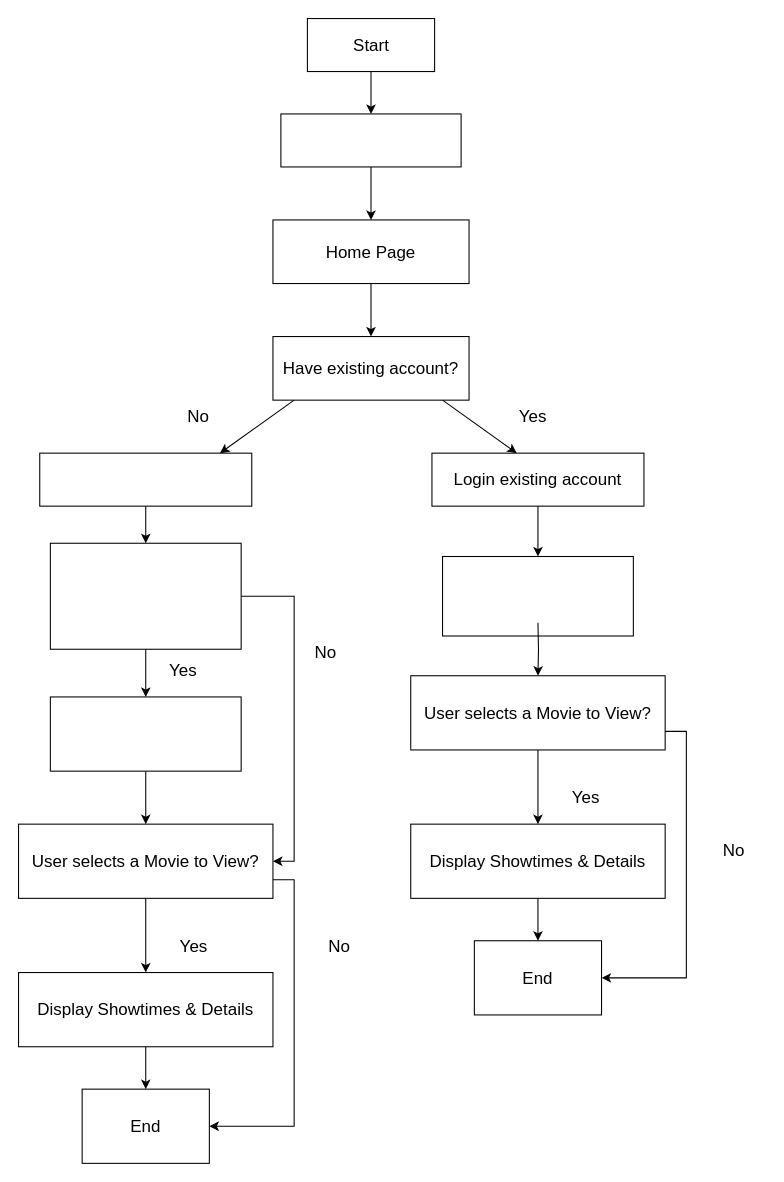
Some shapes in this 784 by 1182 pixel diagram are drawn without their labels. The centre of each missing label's shape, as x and y in pixels:
"Display Filtered Movies" goes at [145,733].
"Display personalized recommendations for user" goes at [537,595].
"Movie Recommendations" goes at [145,479].
"Open the movie app" goes at [370,140].
"User Chooses to Filter? (Genre, Rating, Time)" goes at [145,595].
